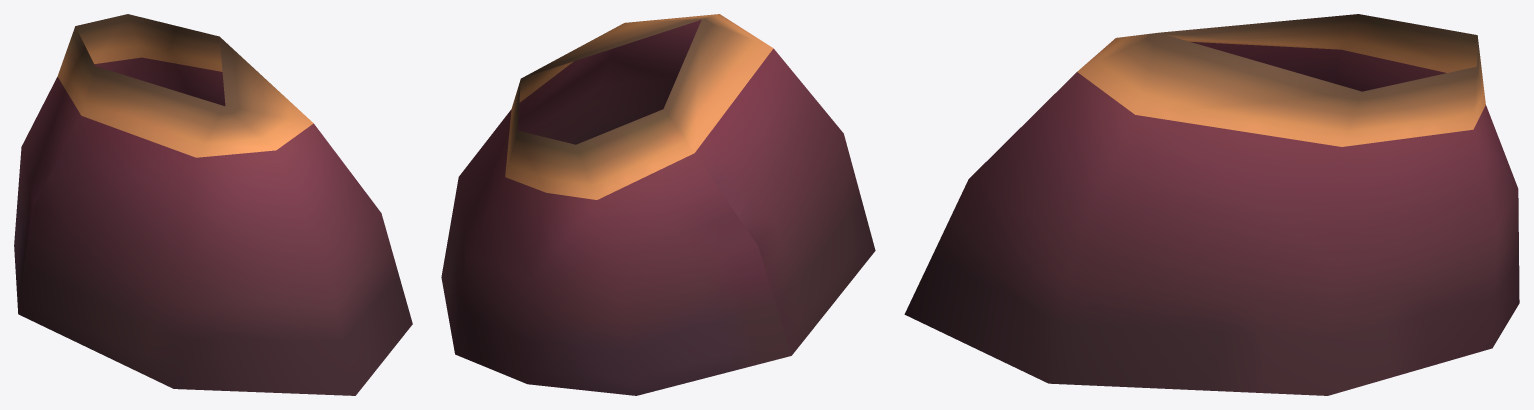
File: pataDel2_planta_caballoTS.obj
The picture shows the model from 3 angles, left to right: view 1: azimuth 30°, elevation 25°; view 2: azimuth 150°, elevation 25°; view 3: azimuth 270°, elevation 25°; orthographic projection. The views are drawn at different scales.
Visible parts, largest first — view 1: patadel2_planta; view 2: patadel2_planta; view 3: patadel2_planta.
Boxes of the visible parts, x1,y1,x2,y2 form: patadel2_planta: [14, 14, 412, 395]; patadel2_planta: [441, 14, 875, 395]; patadel2_planta: [904, 14, 1519, 395].
Bounding box in the file's own units: 1.95 × 1.33 × 2.78.
Materials: 1 (1 with a texture image).
